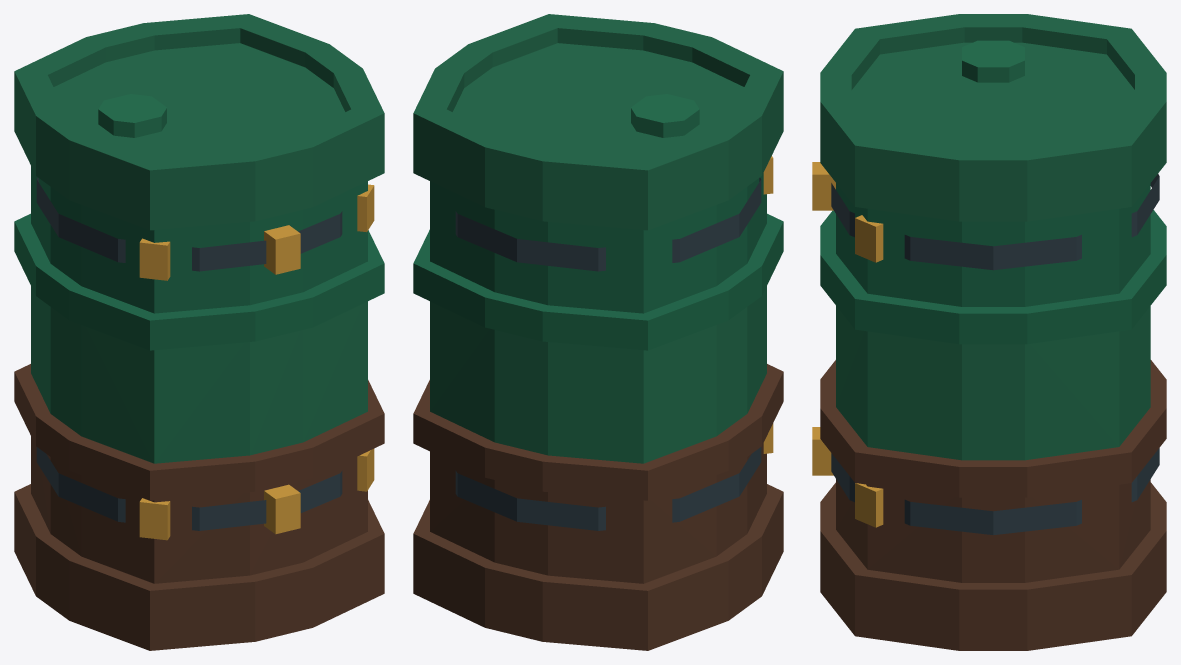
File: barrel-mint.glb
3 views of the same model, side by side, from view 1: azimuth 30°, elevation 25°; view 2: azimuth 150°, elevation 25°; view 3: azimuth 270°, elevation 25° (orthographic). The views are drawn at different scales.
Visible parts, largest first — view 1: barrel-mint; view 2: barrel-mint; view 3: barrel-mint.
Boxes of the visible parts, left/top/right/bottom form: barrel-mint: left=14, top=14, right=384, bottom=650; barrel-mint: left=413, top=14, right=783, bottom=650; barrel-mint: left=812, top=14, right=1166, bottom=650.
Size of the model in its own units: 0.55 by 0.86 by 0.5625.
